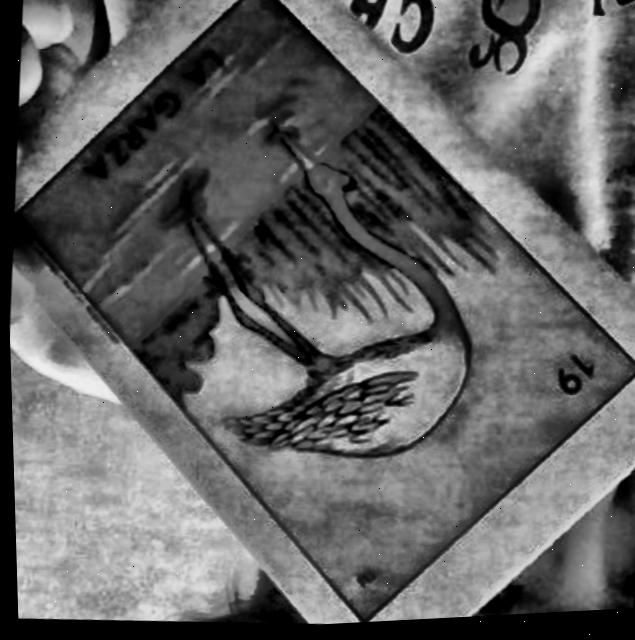El Garza: (13, 0, 635, 625)
